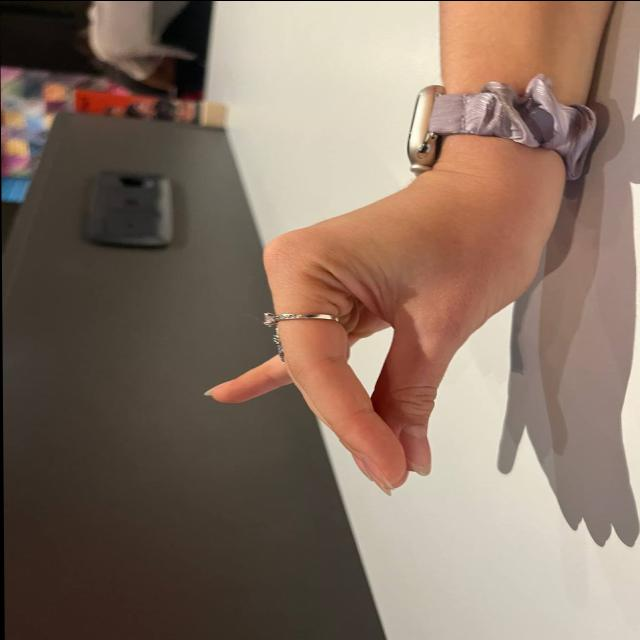iu: (192, 169, 544, 497)
